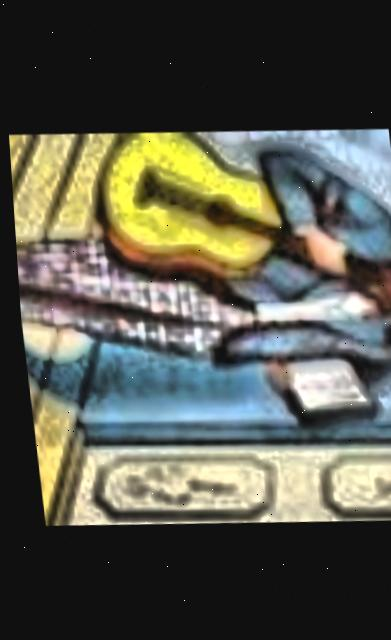El Musico: (6, 116, 391, 536)
